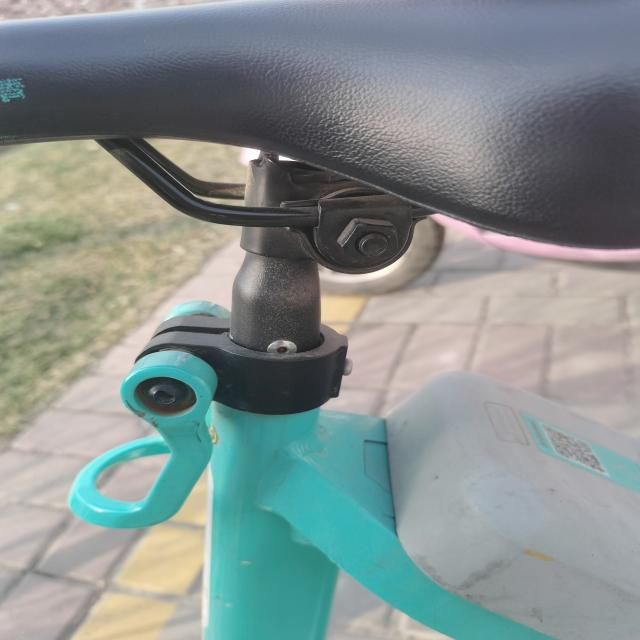Regular bolt: (338, 221, 400, 267)
